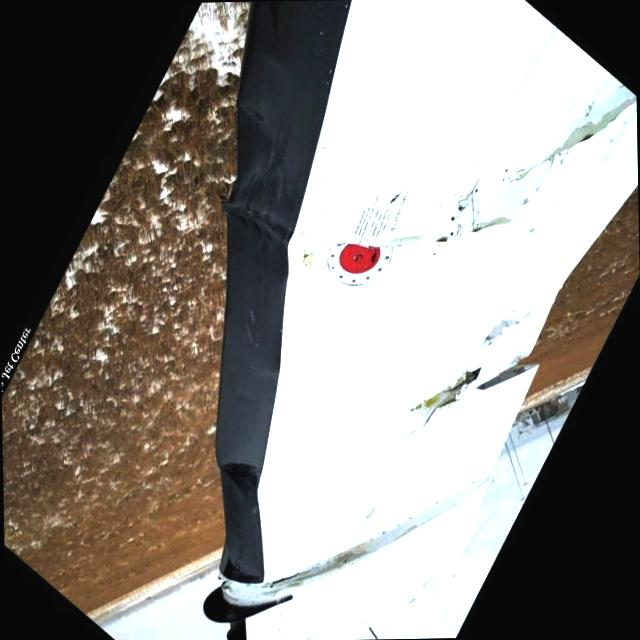crack: (362, 77, 638, 246), (410, 300, 550, 420)
